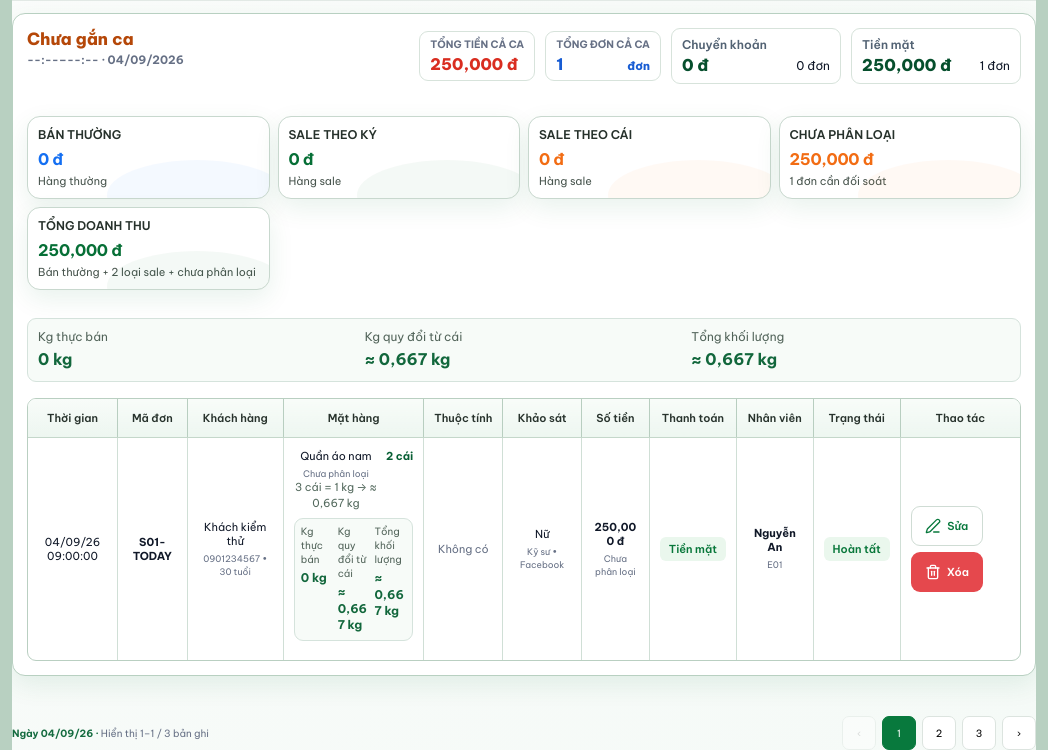
Test: StoreOrdersPage history pagination › shows current-day orders first and opens older dates through numbered pages
(page scrolled)
expect the text "S01-TODAY" is shown: met, box [133,535,172,563]
expect the text "S01-YESTERDAY" is not shown: met
Click the button named "Trang 2": point(939, 733) [922,716,956,749]
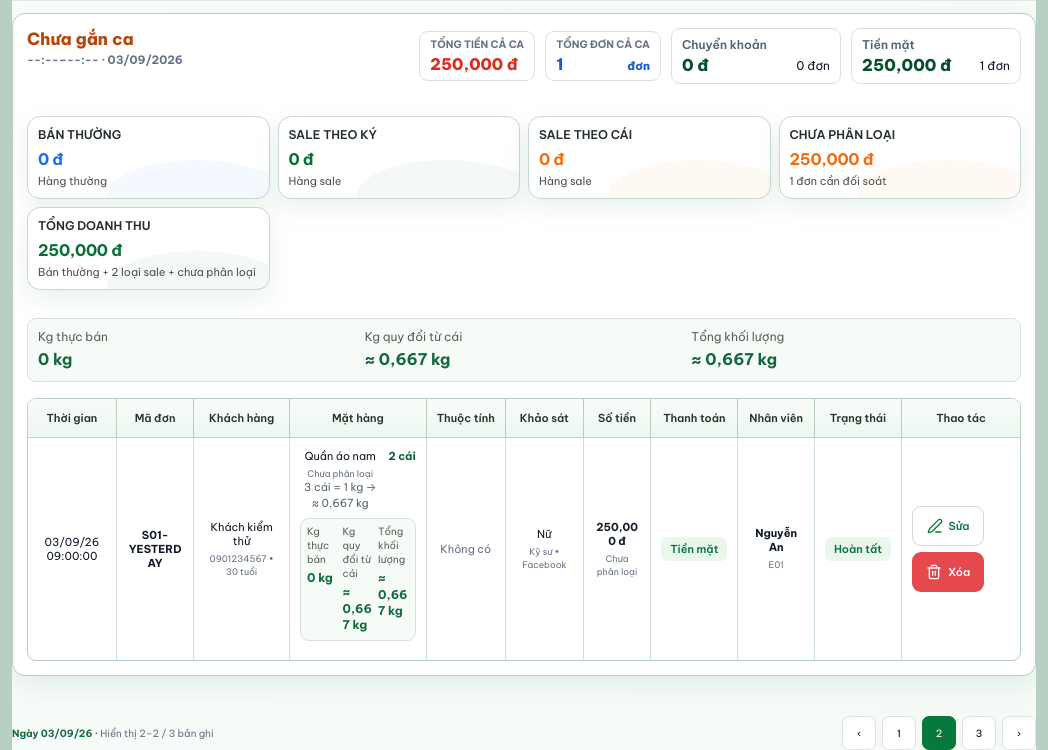
expect the text "S01-YESTERDAY" is shown: met, box [129,528,181,570]
expect the text "S01-TODAY" is gone: met
Click the button named "Trang 3": point(979, 733) [962,716,996,749]
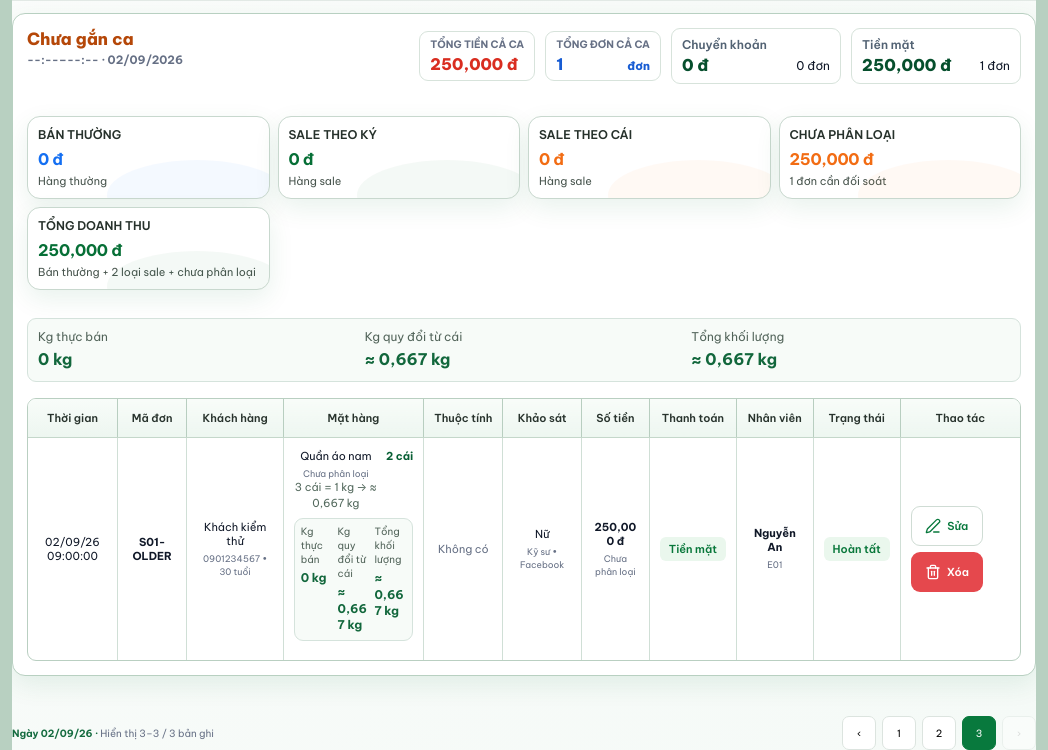
expect the text "S01-OLDER" is shown: met, box [132,535,172,563]
